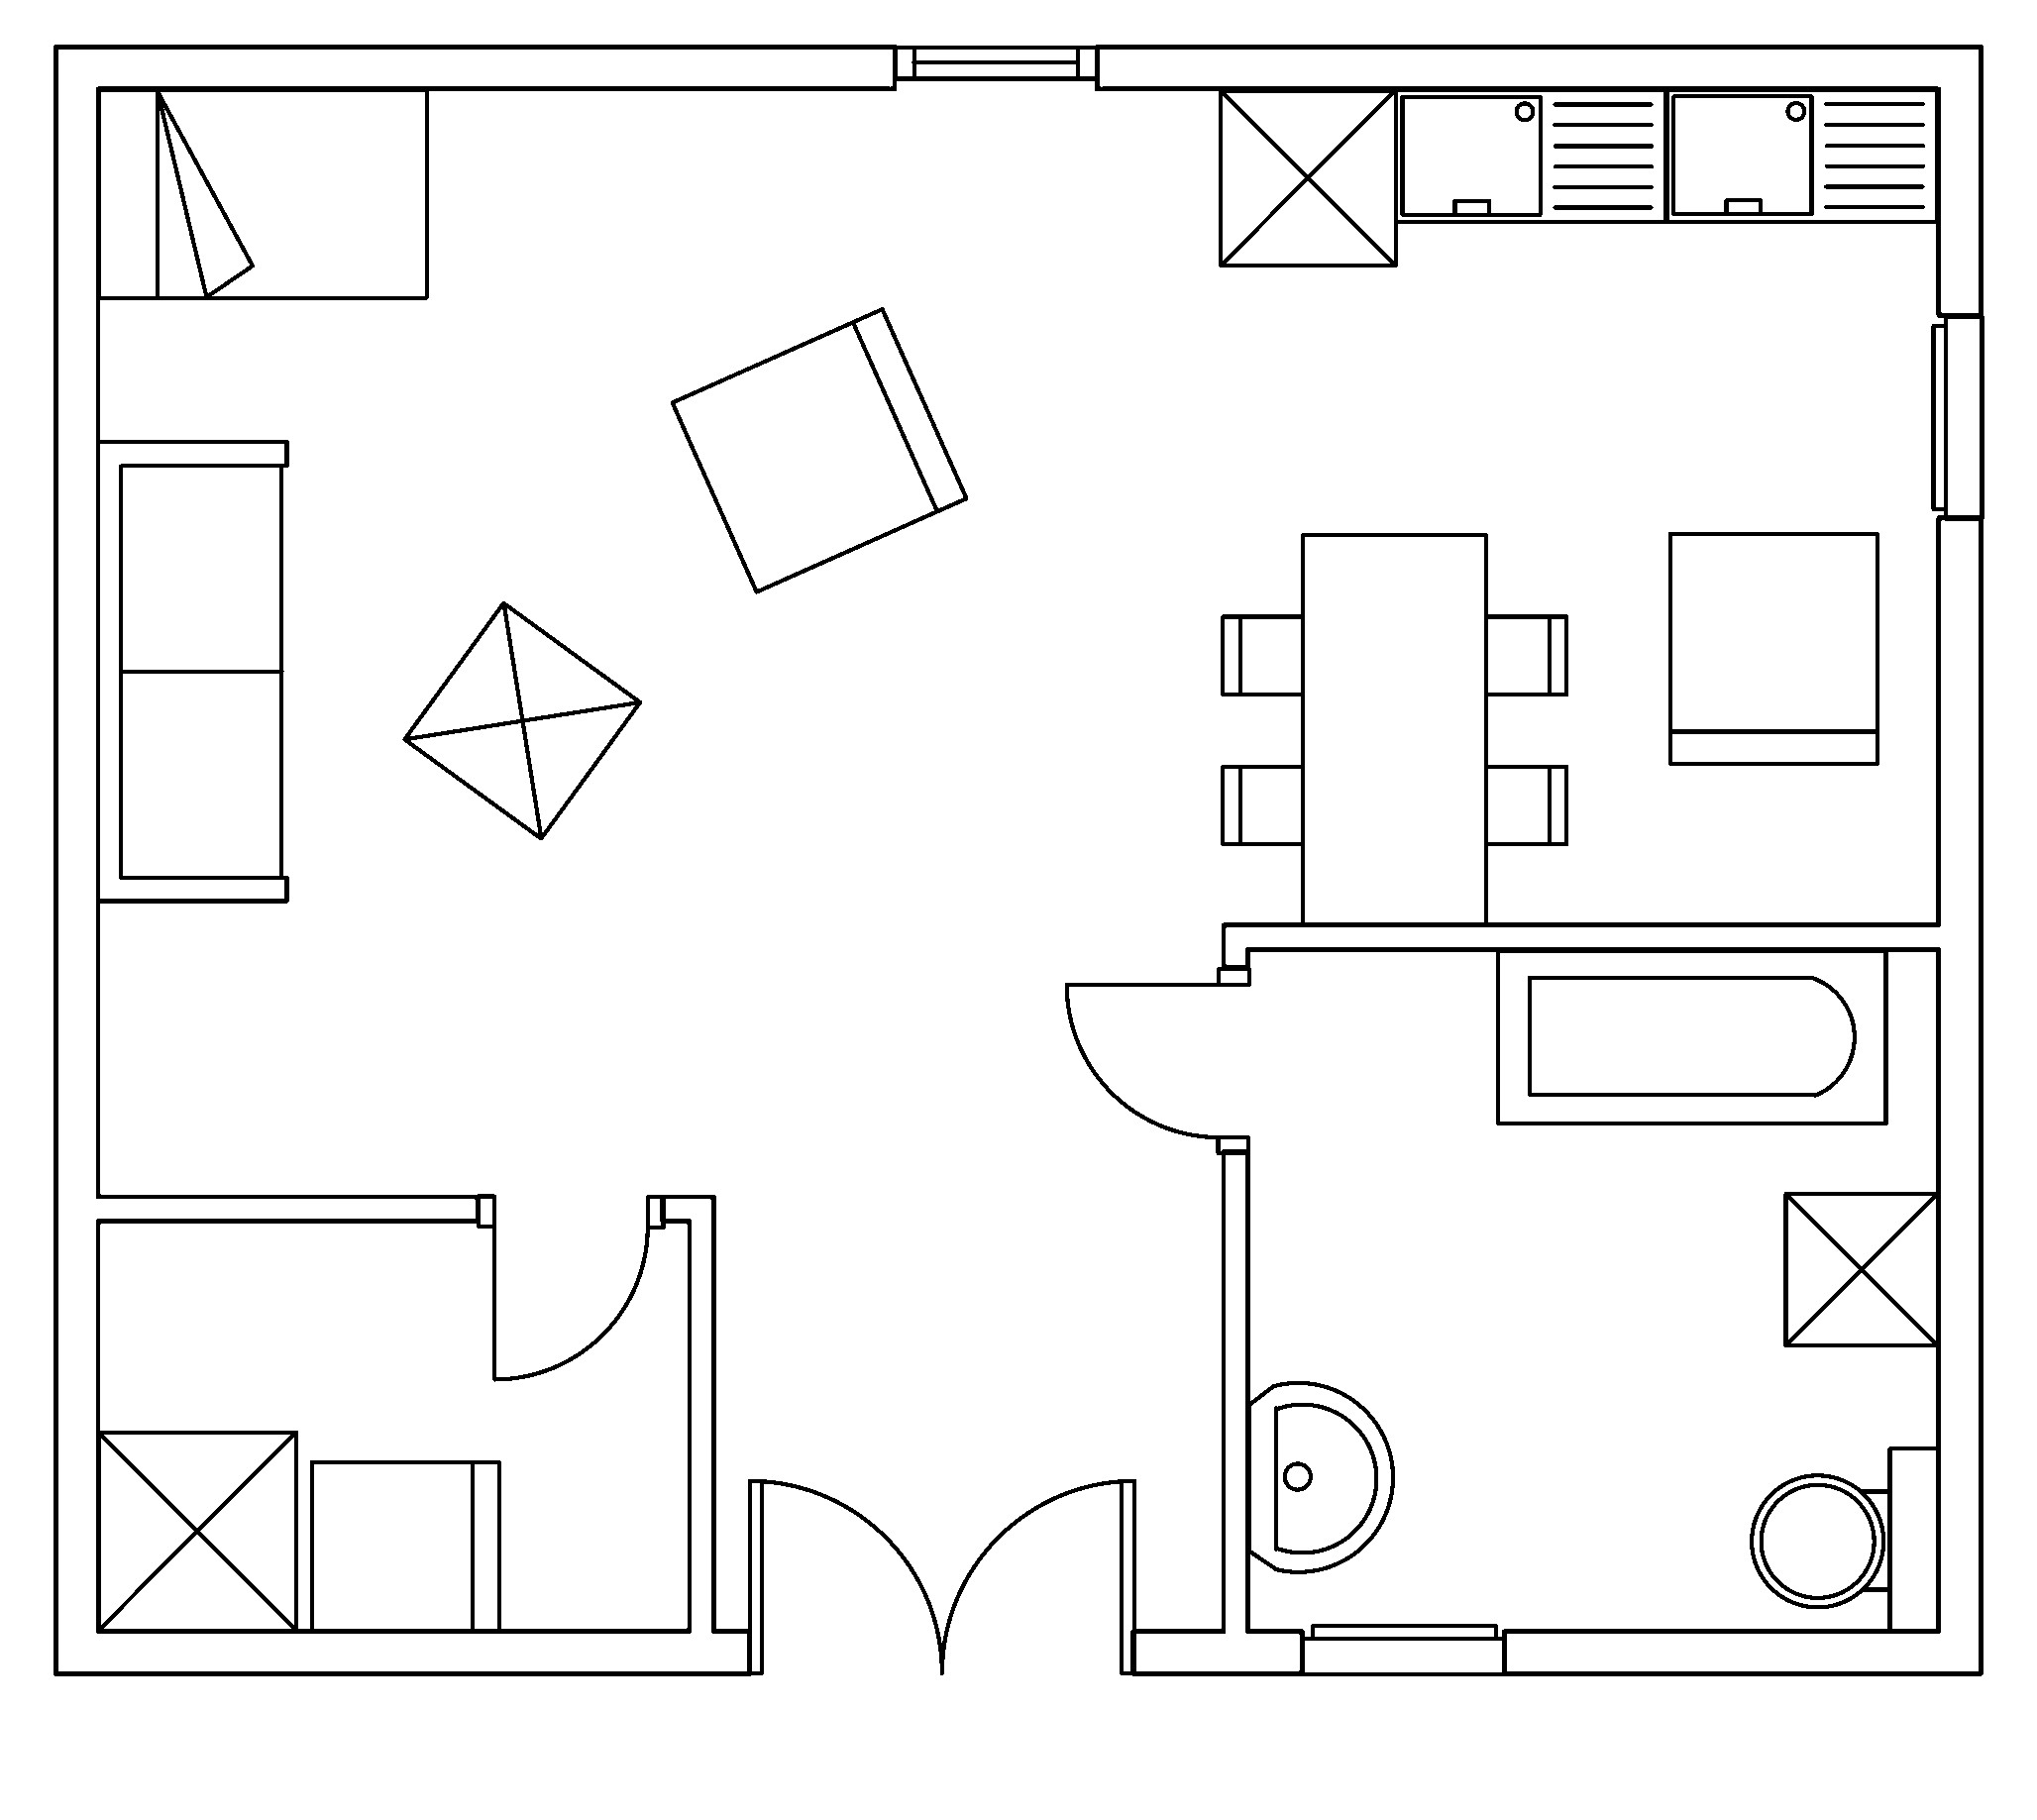bed: (95, 86, 428, 300)
coffee_table: (400, 599, 643, 840), (95, 1428, 299, 1632), (1217, 86, 1398, 267), (1781, 1189, 1940, 1347)
dining_table: (1219, 531, 1568, 926)
large_sink: (1749, 1444, 1940, 1632)
large_sofa: (95, 437, 290, 903)
sink: (1663, 86, 1940, 223), (1393, 86, 1668, 223)
small_sink: (1245, 1381, 1394, 1572)
small_sofa: (669, 306, 969, 594), (1666, 531, 1879, 766), (307, 1458, 500, 1632)
tub: (1494, 947, 1888, 1126)
